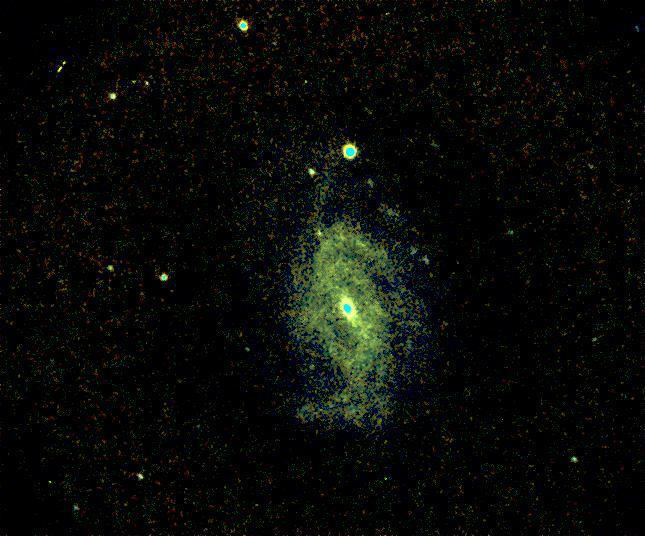star: (46, 46, 76, 76)
